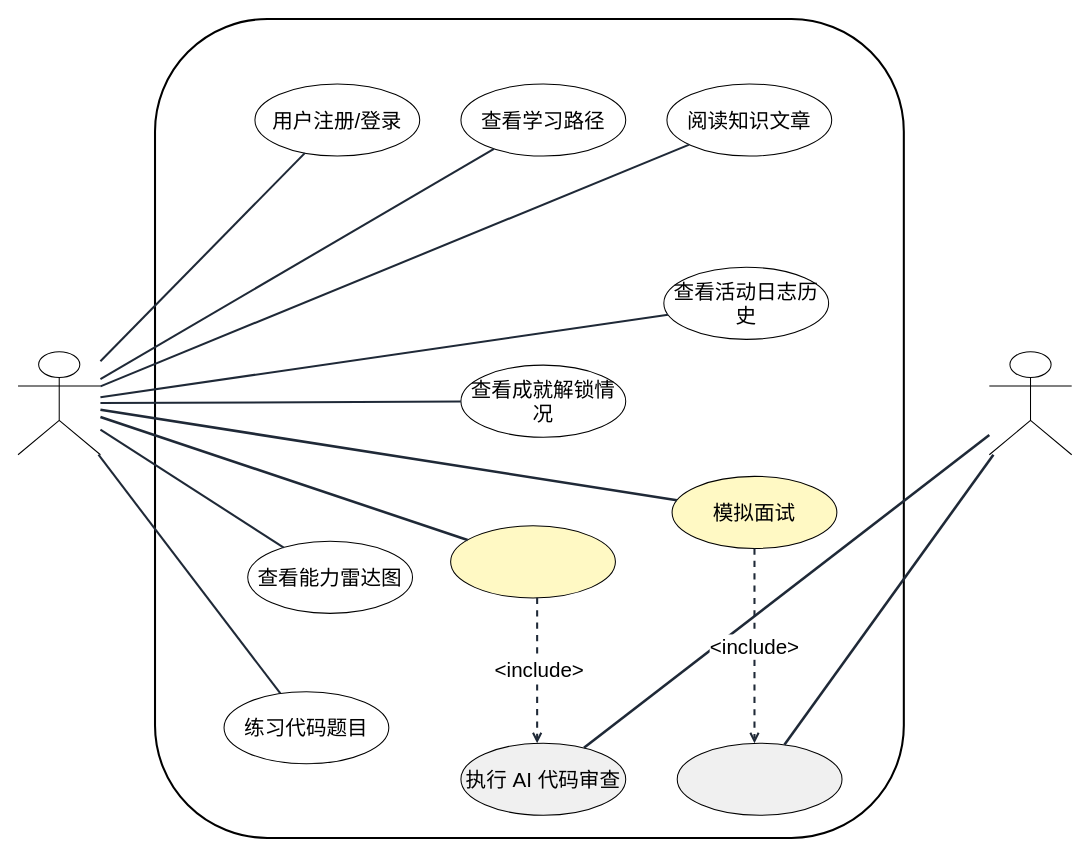
Some shapes in this 1090 by 856 pixel diagram are drawn without their labels. The shapes that lost their labels are listed below. From the top down, each one's centre as x and y in pixels, then its label:
At (x=58, y=403): "学生用户".
At (x=1030, y=403): "Coze AI Bot".
At (x=532, y=561): "提交代码求评审".
At (x=759, y=778): "进行 AI 多轮对话与评估".
